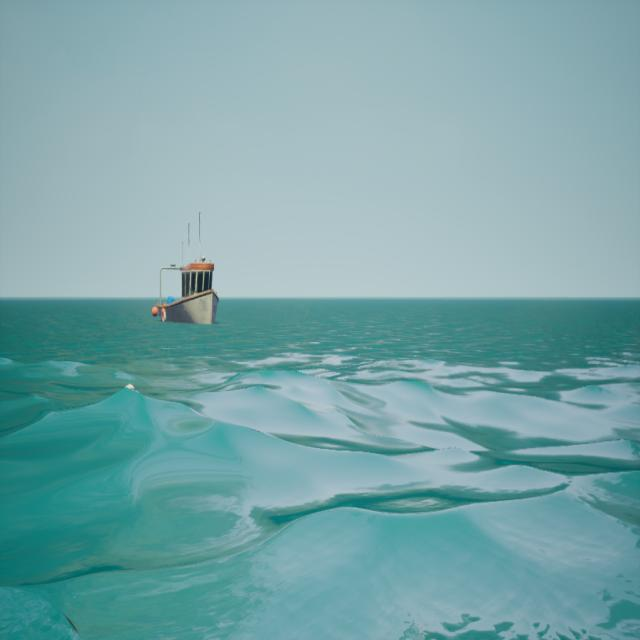ship: (148, 208, 224, 335)
